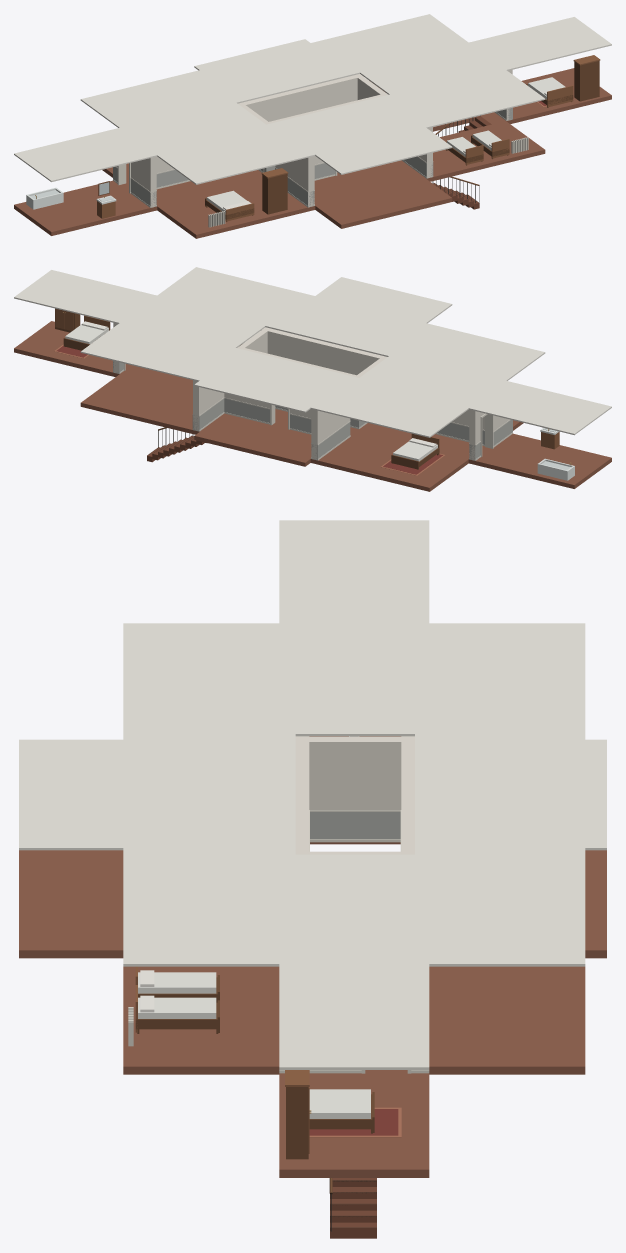
File: piece_combles.glb
The picture shows the model from 3 angles, top to bottom: view 1: azimuth 30°, elevation 25°; view 2: azimuth 150°, elevation 25°; view 3: azimuth 270°, elevation 25°; orthographic projection. The views are drawn at different scales.
Parts seen in each view (by area): view 1: combles_dalle_plafond, combles_cloisons, combles_mobilier, combles_escalier_service, combles_garde_corps; view 2: combles_dalle_plafond, combles_cloisons, combles_mobilier, combles_escalier_service, combles_chambranles; view 3: combles_dalle_plafond, combles_cloisons, combles_mobilier, combles_escalier_service.
Part boxes in pixels (x1,y1,x2,y2): combles_dalle_plafond: (14,14,611,238); combles_cloisons: (113,70,512,207); combles_mobilier: (26,55,600,227); combles_escalier_service: (433,116,491,209); combles_garde_corps: (432,115,480,203); combles_dalle_plafond: (14,267,611,491); combles_cloisons: (113,323,512,460); combles_mobilier: (54,308,574,480); combles_escalier_service: (147,435,207,462); combles_chambranles: (124,363,493,457); combles_dalle_plafond: (19,520,606,1177); combles_cloisons: (279,736,429,1073); combles_mobilier: (128,966,401,1159); combles_escalier_service: (330,1178,376,1238).
Bounding box in the file's own units: 31.96 × 7.85 × 14.52.
